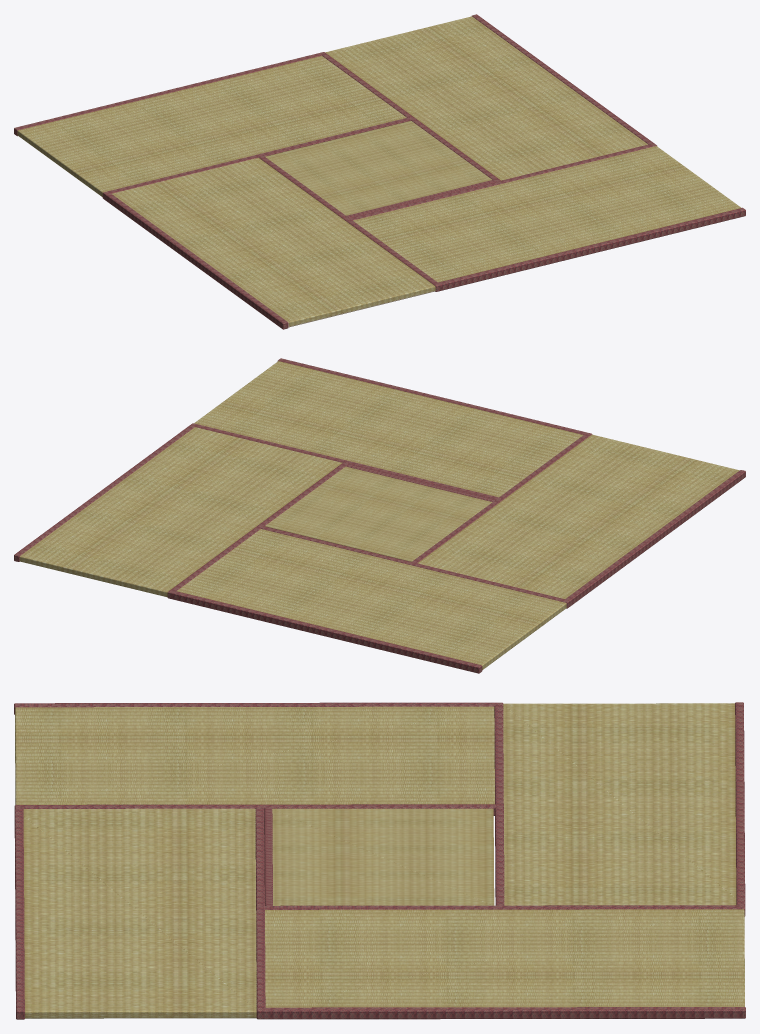
Rendered from tatami1.fbx.
3 views of the same model, one above another, from view 1: azimuth 30°, elevation 25°; view 2: azimuth 150°, elevation 25°; view 3: azimuth 270°, elevation 25° (orthographic). The views are drawn at different scales.
Parts seen in each view (by area): view 1: Tatami & Japanese table.146; view 2: Tatami & Japanese table.146; view 3: Tatami & Japanese table.146.
Boxes of the visible parts, x1,y1,x2,y2 form: Tatami & Japanese table.146: [14, 14, 745, 329]; Tatami & Japanese table.146: [14, 358, 745, 673]; Tatami & Japanese table.146: [14, 702, 745, 1019].
Bounding box in the file's own units: 29641 × 399 × 29639.
Materials: 8 (7 with a texture image).
